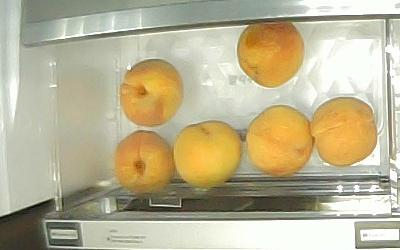peach: (244, 104, 312, 176), (173, 120, 242, 187), (311, 97, 378, 165), (236, 22, 303, 87), (119, 58, 183, 126), (114, 130, 173, 196)
